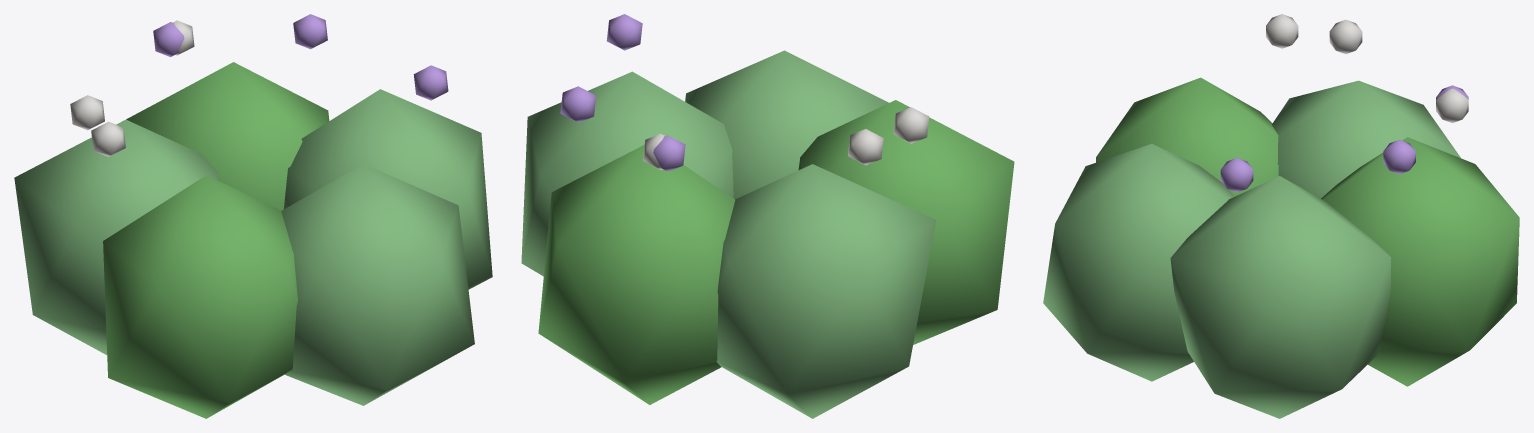
The model's file is herb_patch.glb.
3 views of the same model, side by side, from view 1: azimuth 30°, elevation 25°; view 2: azimuth 150°, elevation 25°; view 3: azimuth 270°, elevation 25° (orthographic). The views are drawn at different scales.
Parts seen in each view (by area): view 1: herb_patch; view 2: herb_patch; view 3: herb_patch.
Boxes of the visible parts, x1,y1,x2,y2 form: herb_patch: (14,14,492,418); herb_patch: (521,14,1014,418); herb_patch: (1043,14,1519,418).
Size of what is drawn, in the model's own units: 0.7536 by 0.5 by 0.7652.
